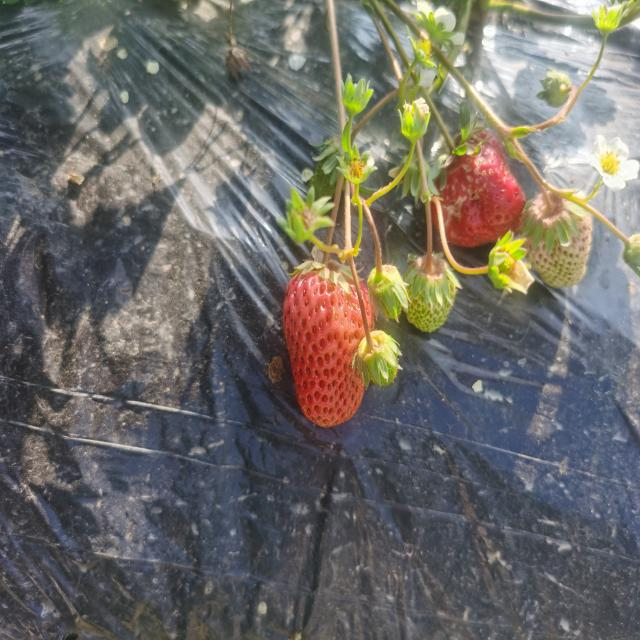stem: (432, 113, 456, 155)
strawberry: (283, 262, 365, 427), (434, 129, 526, 247)
